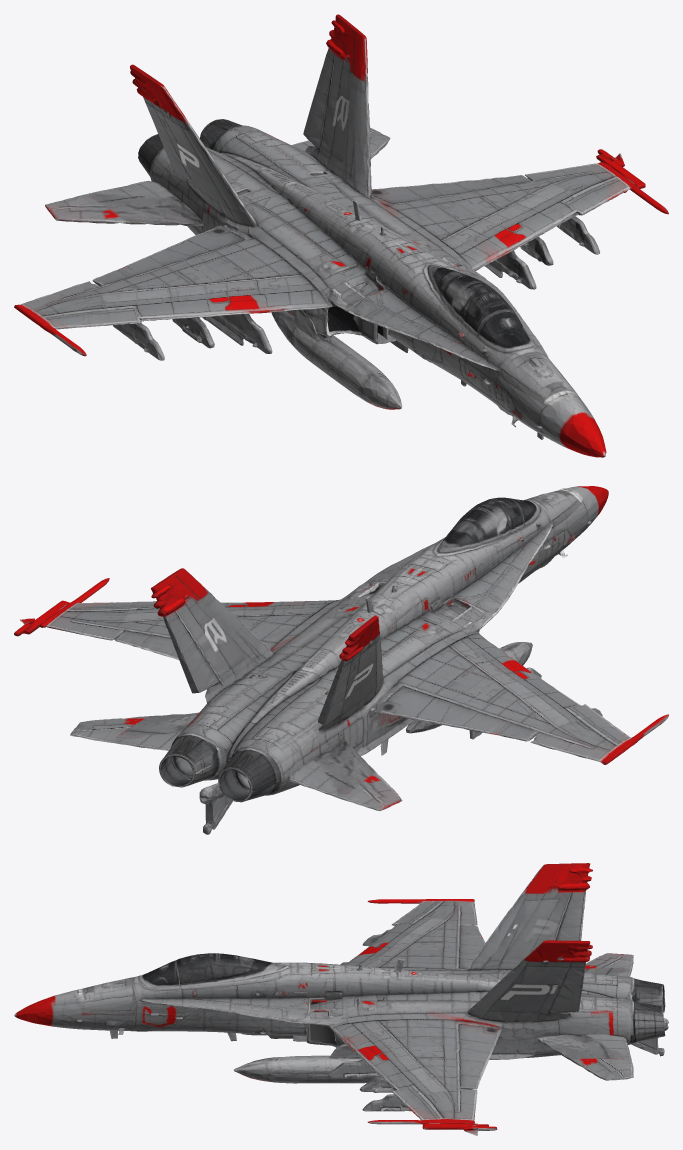
3 views of the same model, one above another, from view 1: azimuth 30°, elevation 25°; view 2: azimuth 150°, elevation 25°; view 3: azimuth 270°, elevation 25° (orthographic). The views are drawn at different scales.
Size of the model in its own units: 1.59 by 0.5008 by 1.9.
Materials: 1 (1 with a texture image).
